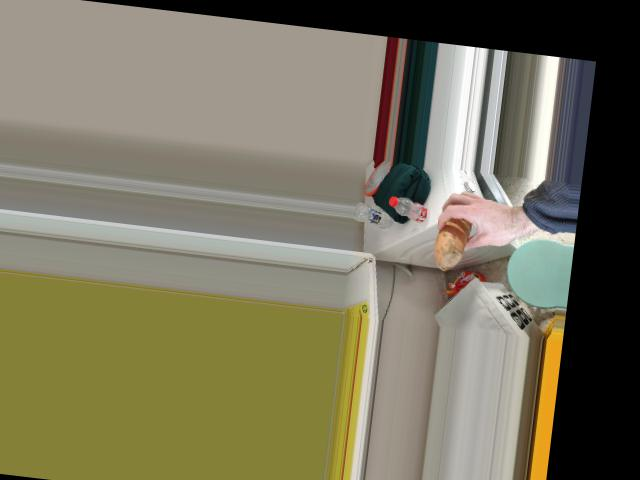sweet_potato: (431, 210, 481, 260)
